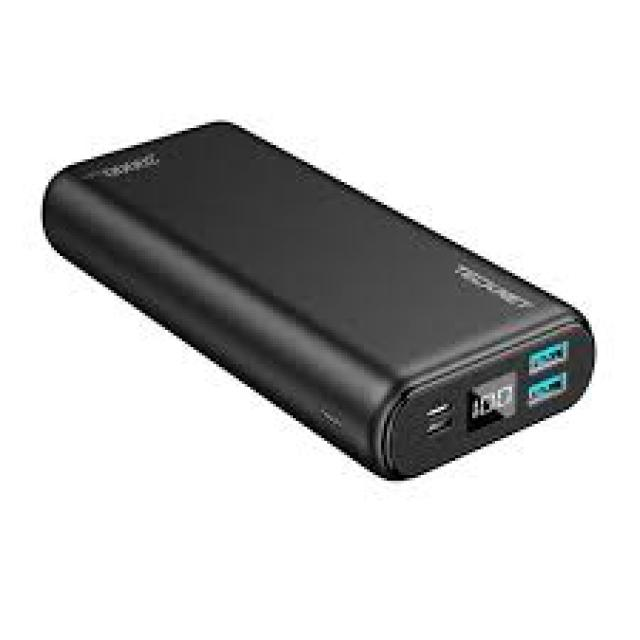power_bank: (38, 118, 597, 482)
